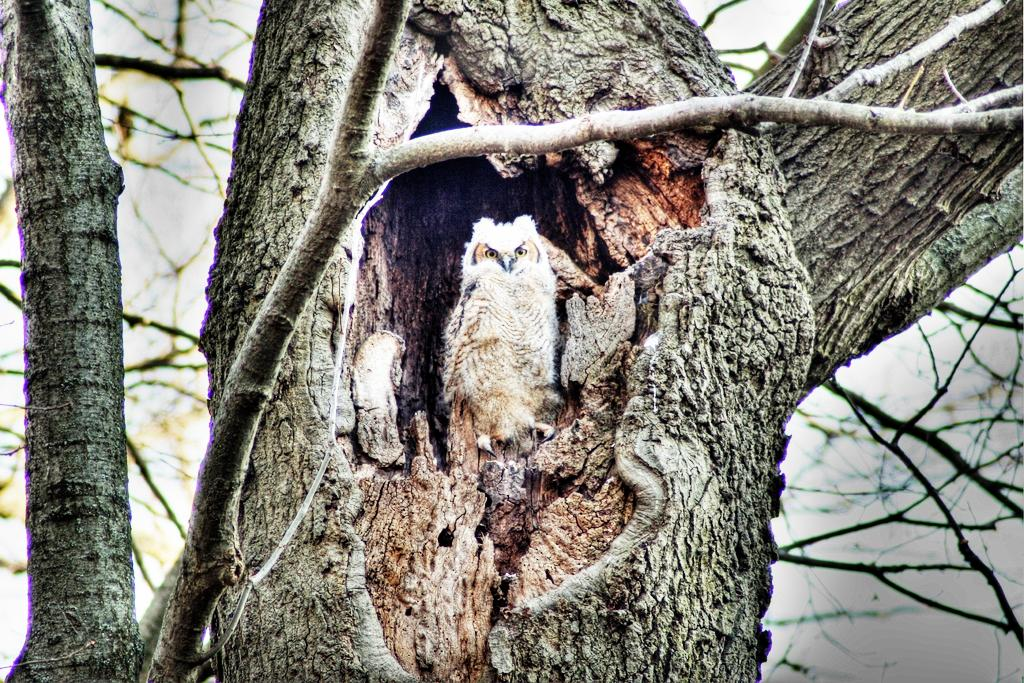Owl: (446, 218, 574, 450)
